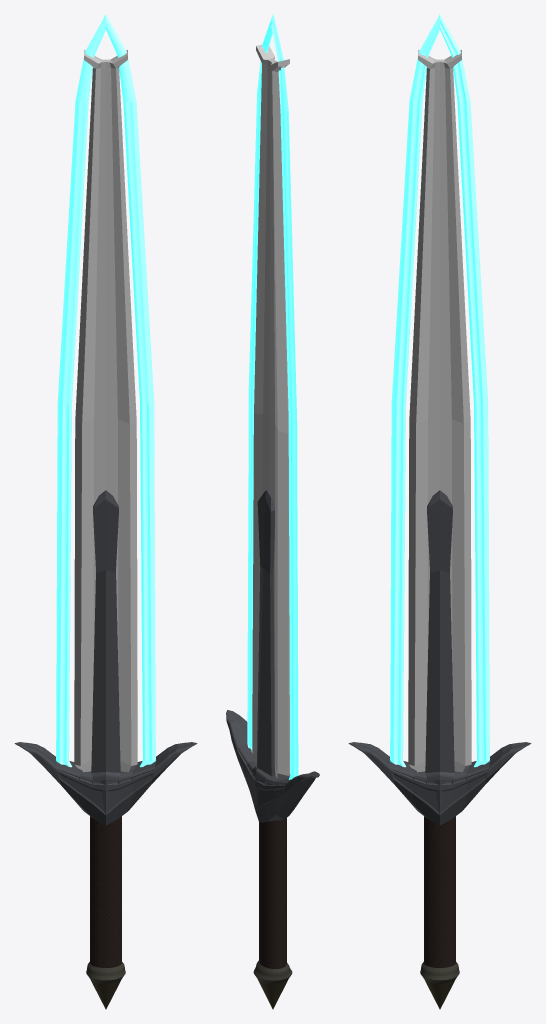
File: Sword2.0.fbx
The picture shows the model from 3 angles, left to right: view 1: azimuth 90°, elevation 25°; view 2: azimuth 210°, elevation 25°; view 3: azimuth 270°, elevation 25°; orthographic projection.
Visible parts, largest first — view 1: False Blade, Blade, Crossguard, Handle; view 2: False Blade, Blade, Crossguard, Handle; view 3: False Blade, Blade, Crossguard, Handle.
Boxes of the visible parts, bbox=[...] form: False Blade: bbox=[74, 50, 137, 772]; Blade: bbox=[56, 14, 155, 767]; Crossguard: bbox=[14, 490, 197, 825]; Handle: bbox=[86, 816, 125, 1009]; False Blade: bbox=[252, 44, 290, 778]; Blade: bbox=[247, 14, 298, 779]; Crossguard: bbox=[226, 489, 319, 822]; Handle: bbox=[253, 818, 292, 1009]; False Blade: bbox=[408, 50, 471, 772]; Blade: bbox=[390, 14, 489, 767]; Crossguard: bbox=[348, 490, 531, 825]; Handle: bbox=[420, 816, 459, 1009].
Bounding box in the file's own units: 42.87 × 1164 × 194.
